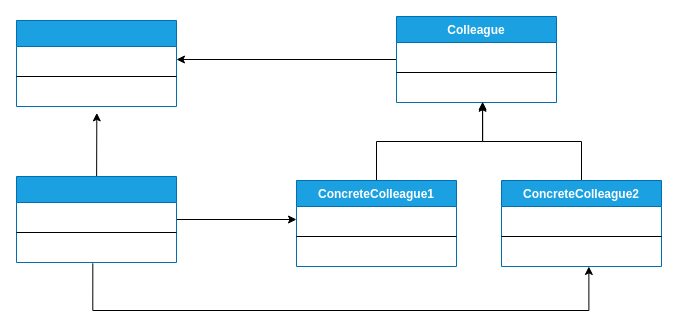
This 678x327 diagram has some shape labels left out. Here are the shapes that lost their labels. From the top down, the box of each, then its label:
(16, 20, 176, 106): Mediator
(16, 176, 176, 262): ConcreteMediator
